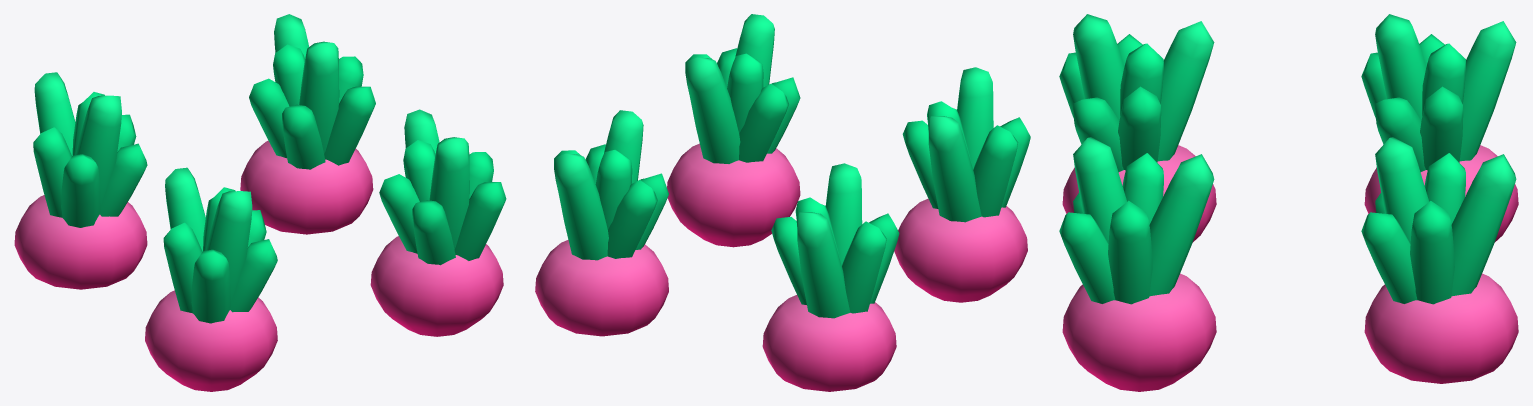
File: Farm_Crop_Beet_Step_03.fbx
3 views of the same model, side by side, from view 1: azimuth 30°, elevation 25°; view 2: azimuth 150°, elevation 25°; view 3: azimuth 270°, elevation 25° (orthographic). The views are drawn at different scales.
Parts seen in each view (by area): view 1: Farm_Crop_Beet_Step_03; view 2: Farm_Crop_Beet_Step_03; view 3: Farm_Crop_Beet_Step_03.
Boxes of the visible parts, x1,y1,x2,y2 form: Farm_Crop_Beet_Step_03: (14, 14, 506, 391); Farm_Crop_Beet_Step_03: (535, 14, 1030, 391); Farm_Crop_Beet_Step_03: (1059, 14, 1518, 391).
Bounding box in the file's own units: 151 × 85.18 × 152.
